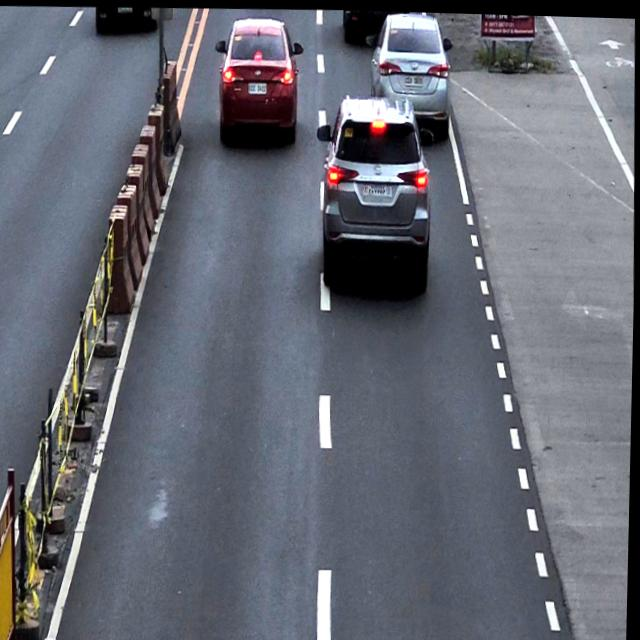Car: (313, 89, 434, 290), (212, 13, 305, 144), (368, 9, 455, 129)
License-Plate: (361, 178, 394, 197), (247, 78, 267, 94), (403, 71, 424, 84)
